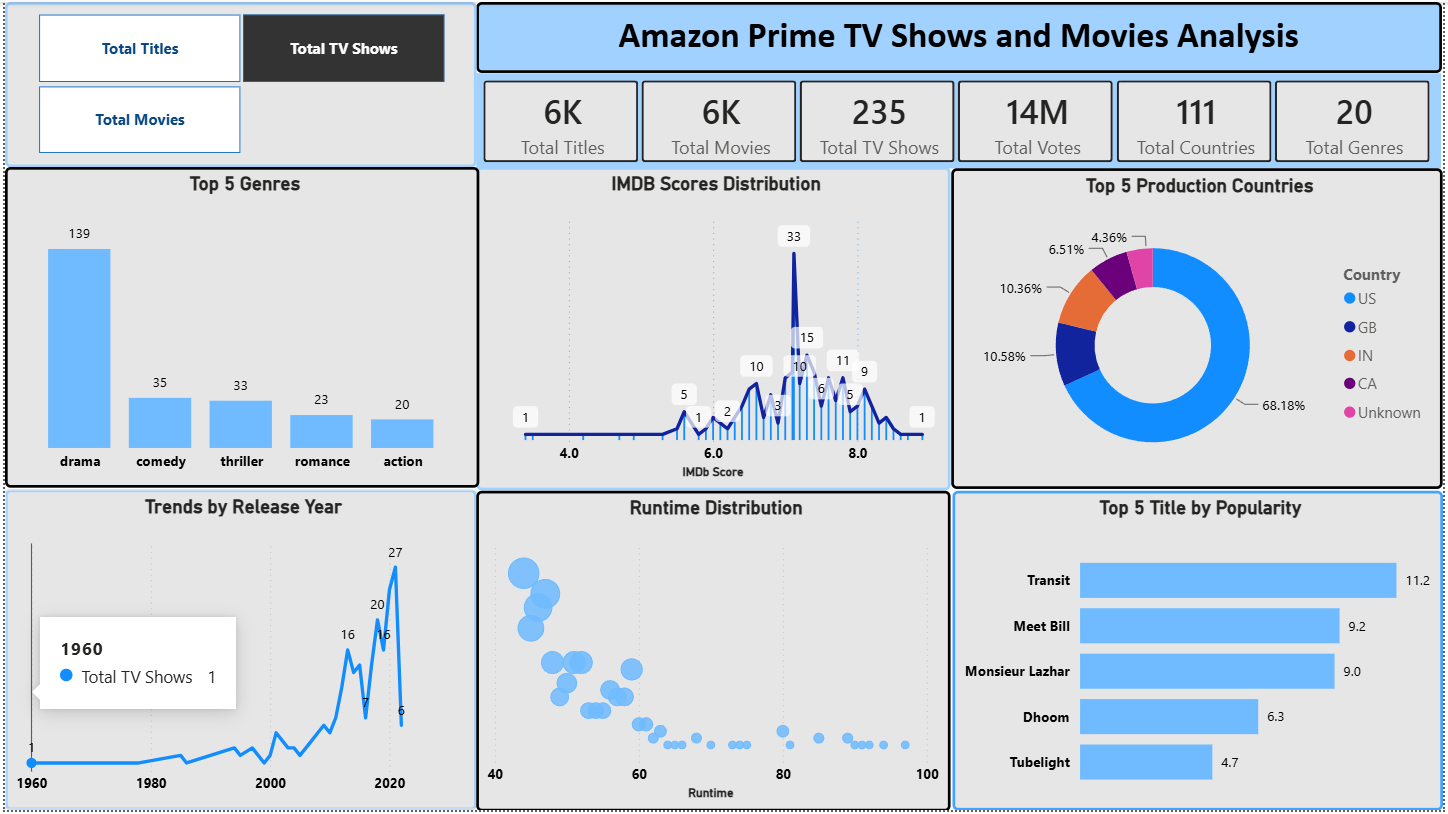

What the dashboard file says about the page in this screenshot:
{"tool":"powerbi","page":{"name":"Dashboard","canvas":[1280,720],"ordinal":0},"visuals":[{"type":"textbox","box":[419.9,0,860.4,63.1],"z":0},{"type":"cardVisual","fields":{"Data":["amazon.Total Titles","amazon.Total Movies","amazon.Total TV Shows","amazon.Total Votes","Countries.Total Countries","Genres.Total Genres"]},"box":[419.9,63.1,859,85.1],"z":1000},{"type":"donutChart","title":"Top 5 Production Countries","fields":{"Category":["Countries.Country"],"Y":["Countries.Country by Title"]},"box":[842.5,148.2,437.7,285.4],"z":4000},{"type":"slicer","fields":{"Values":["Title Metrics.Title Metrics"]},"box":[0,0,419.9,146.8],"z":5000},{"type":"lineChart","title":"Trends by Release Year","fields":{"Y":["amazon.Total TV Shows"],"Category":["amazon.release_year"]},"box":[0,433.6,419.9,285.4],"z":6000},{"type":"lineStackedColumnComboChart","title":"IMDB Scores Distribution","fields":{"Y":["amazon.Total TV Shows"],"Y2":["amazon.Total TV Shows"],"Category":["amazon.imdb_score"]},"box":[419.9,146.8,422.6,288.2],"z":7000},{"type":"scatterChart","title":"Runtime Distribution","fields":{"Y":["amazon.Total TV Shows"],"Size":["amazon.Total TV Shows"],"X":["amazon.runtime"]},"box":[419.9,435,422.6,285.4],"z":8000},{"type":"columnChart","title":"Top 5 Genres","fields":{"Category":["Genres.Genre"],"Y":["amazon.Total TV Shows"]},"box":[0,147.2,422.6,285.4],"z":8001},{"type":"clusteredBarChart","title":"Top 5 Title by Popularity","fields":{"Y":["Max(amazon.tmdb_popularity)"],"Category":["amazon.title"]},"box":[843.3,435.5,436.7,284.7],"z":8002}]}

Visuals, with their boxes in screenshot pixels (x1, y1, x2, y2), scaled from the page's 1280x720 canvas onto the 1448x814 screenshot:
textbox: BBox(475, 0, 1447, 71)
cardVisual - amazon.Total Titles x amazon.Total Movies: BBox(475, 71, 1447, 168)
"Top 5 Production Countries" donutChart: BBox(953, 168, 1447, 490)
slicer - Title Metrics.Title Metrics: BBox(0, 0, 475, 166)
"Trends by Release Year" lineChart: BBox(0, 490, 475, 813)
"IMDB Scores Distribution" lineStackedColumnComboChart: BBox(475, 166, 953, 492)
"Runtime Distribution" scatterChart: BBox(475, 492, 953, 813)
"Top 5 Genres" columnChart: BBox(0, 166, 478, 489)
"Top 5 Title by Popularity" clusteredBarChart: BBox(954, 492, 1447, 813)
